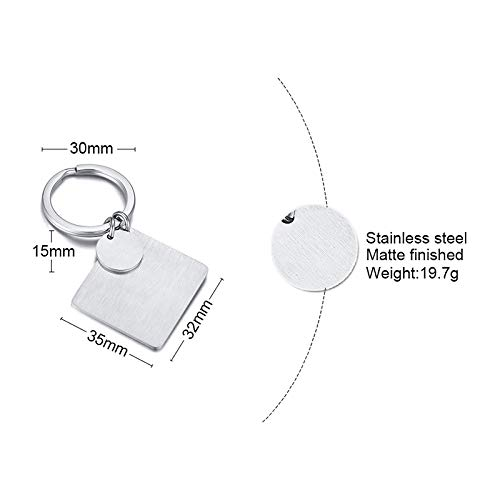Matte: (367, 248, 405, 260)
Stainless: (366, 232, 429, 244)
_/: (328, 272, 352, 290)
finished: (410, 248, 463, 260)
steel: (435, 232, 467, 244)
